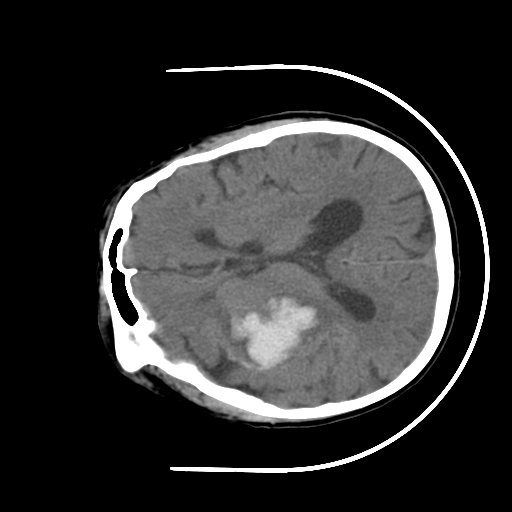a: (203, 281, 341, 378)
